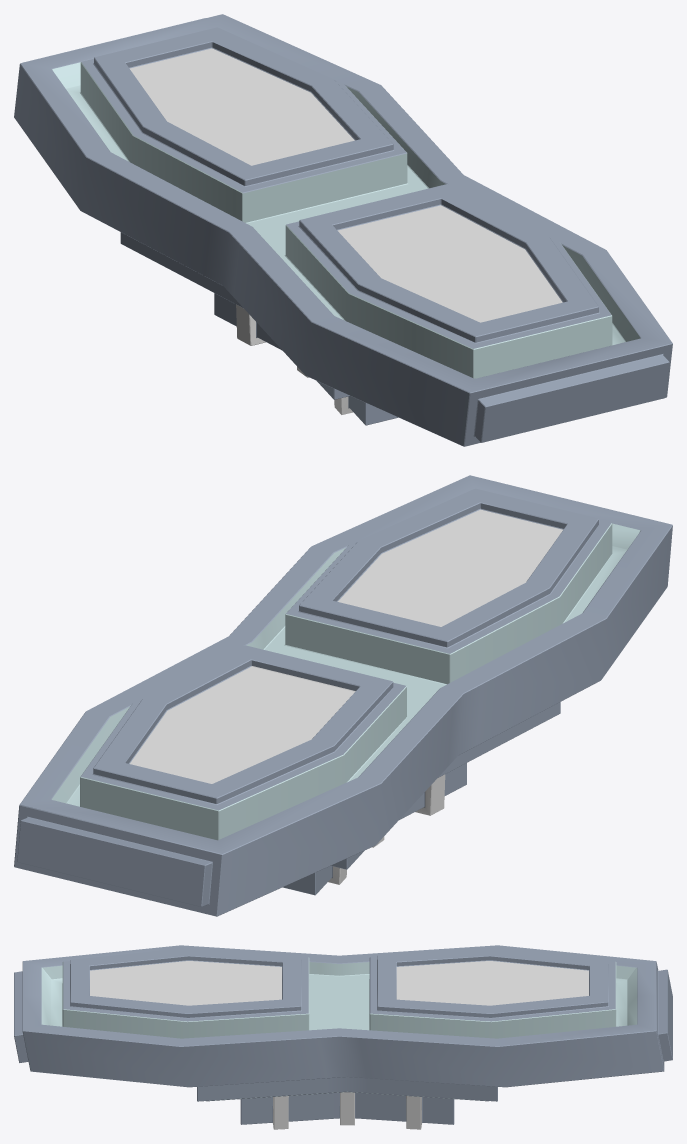
File: Single_Plytka_v2.fbx
3 renders of one model, top to bottom at view 1: azimuth 30°, elevation 25°; view 2: azimuth 150°, elevation 25°; view 3: azimuth 270°, elevation 25°, orthographic. The views are drawn at different scales.
Parts seen in each view (by area): view 1: Shield New.005; view 2: Shield New.005; view 3: Shield New.005.
Boxes of the visible parts, bbox=[...] form: Shield New.005: bbox=[14, 14, 672, 446]; Shield New.005: bbox=[14, 475, 672, 916]; Shield New.005: bbox=[14, 945, 672, 1129].
Bounding box in the file's own units: 5.06 × 3.07 × 13.88.
